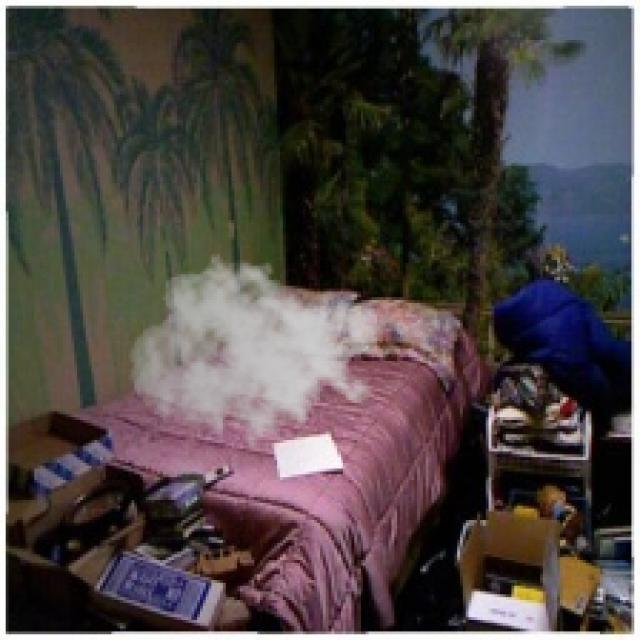Smoke: (128, 248, 383, 461)
